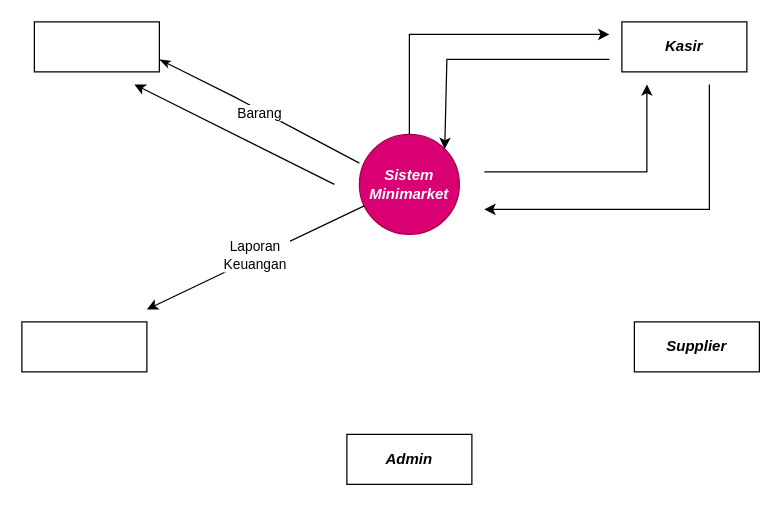
This 781x506 diagram has some shape labels left out. The centre of each missing label's shape, as x and y in pixels:
"Pembeli" goes at pixel 96 46.
"Pemimpin" goes at pixel 84 346.
